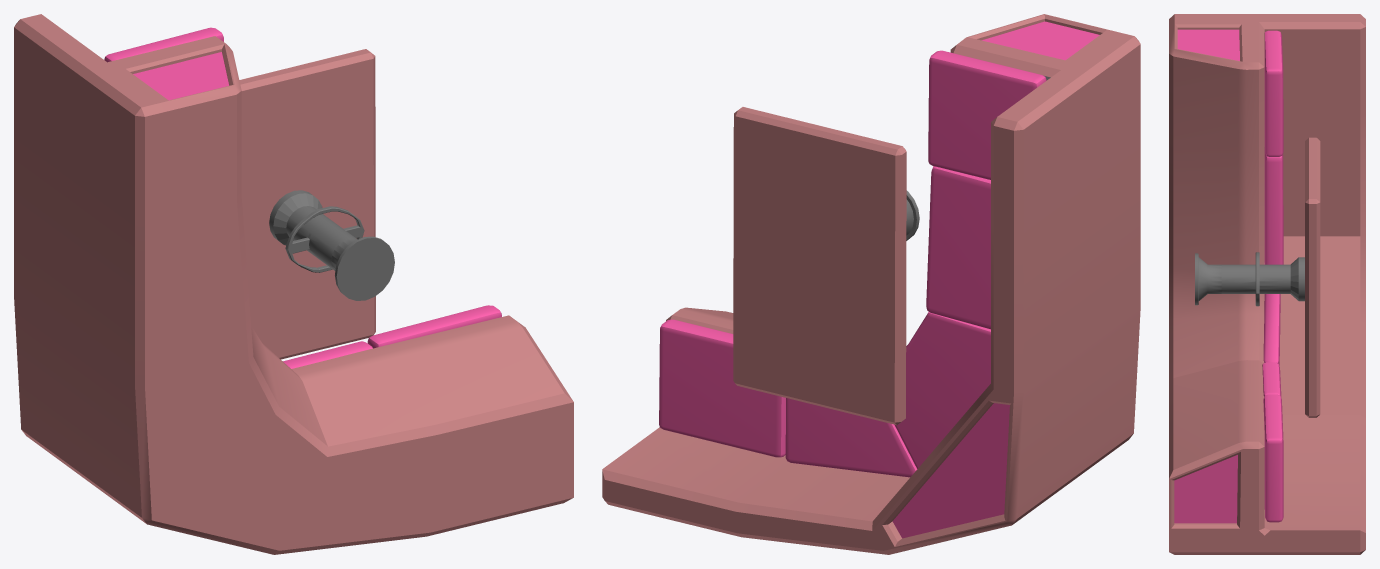
File: Corner_Booth.fbx
3 views of the same model, side by side, from view 1: azimuth 30°, elevation 25°; view 2: azimuth 150°, elevation 25°; view 3: azimuth 270°, elevation 25° (orthographic). The views are drawn at different scales.
Visible parts, largest first — view 1: Corner_Booth; view 2: Corner_Booth; view 3: Corner_Booth.
Part boxes in pixels (box(x1,y1,x2,y2)): Corner_Booth: box(14, 14, 573, 554); Corner_Booth: box(602, 14, 1140, 554); Corner_Booth: box(1169, 14, 1365, 554).
Bounding box in the file's own units: 12.88 × 14.1 × 6.57.
